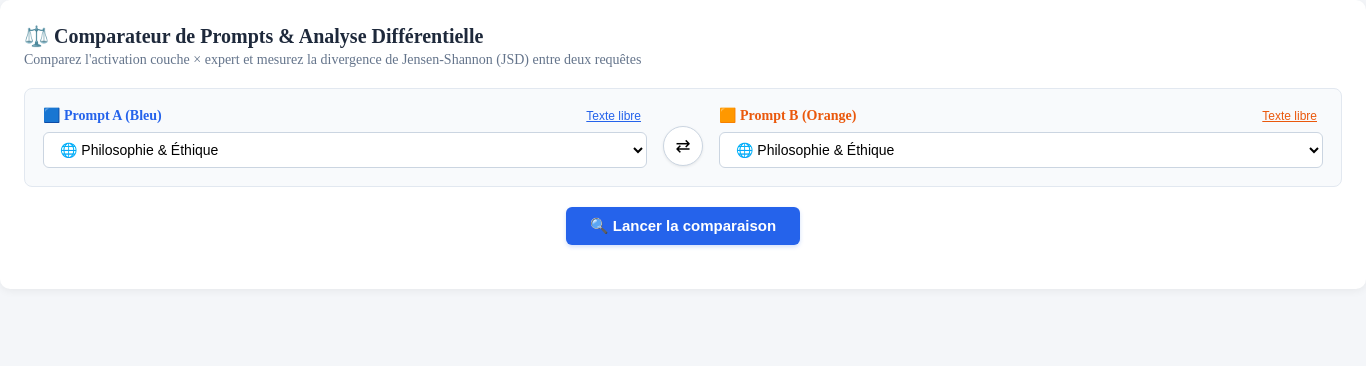
Test case: PromptComparator Component › displays error message when comparison API fails
This screenshot has width=1366, height=366.
Click the button with test id "compare-prompts-btn": (683, 226) [566,207,800,245]
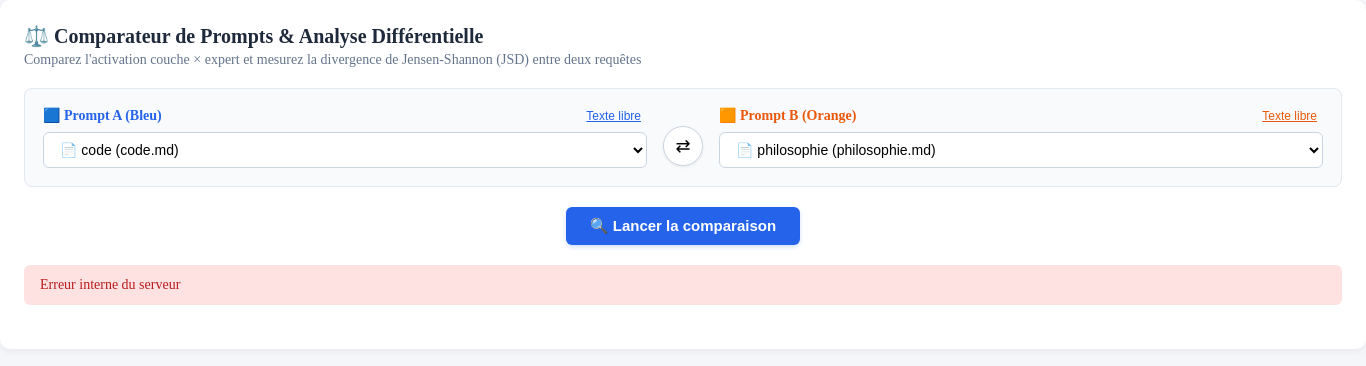
Check: the text "Erreur interne du serveur" is shown, box [24,265,1342,305]
Check: the text with test id "comparator-error" reads "Erreur interne du serveur", box [40,277,180,292]
